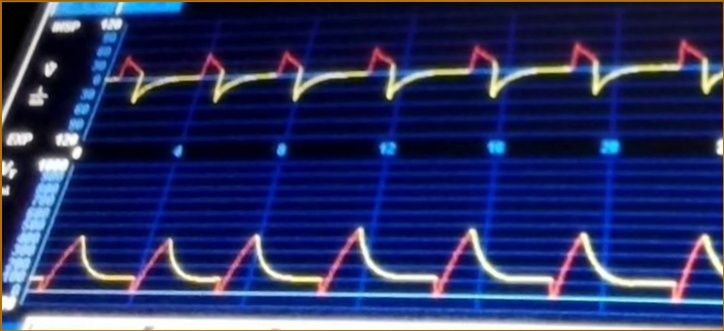Flow: (116, 28, 724, 131)
Leakage Volume: (50, 204, 720, 313)
